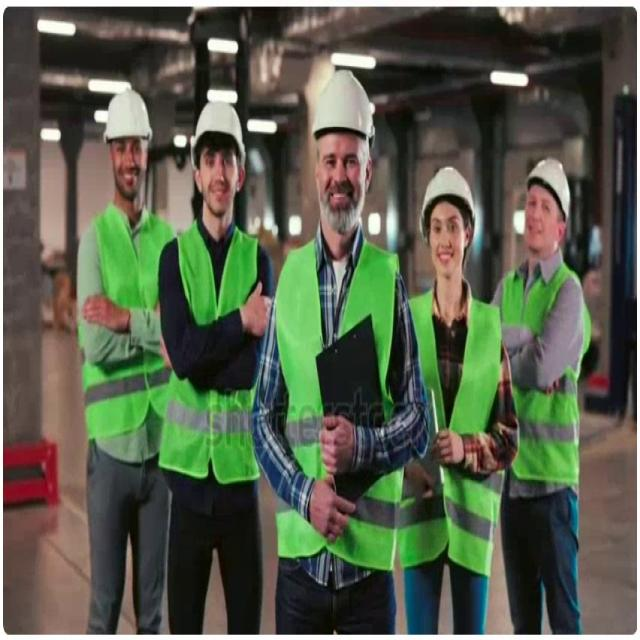not-gloved: (308, 474, 355, 544), (318, 413, 354, 476), (82, 291, 129, 333), (240, 279, 272, 339), (431, 426, 464, 467), (404, 460, 435, 501)
